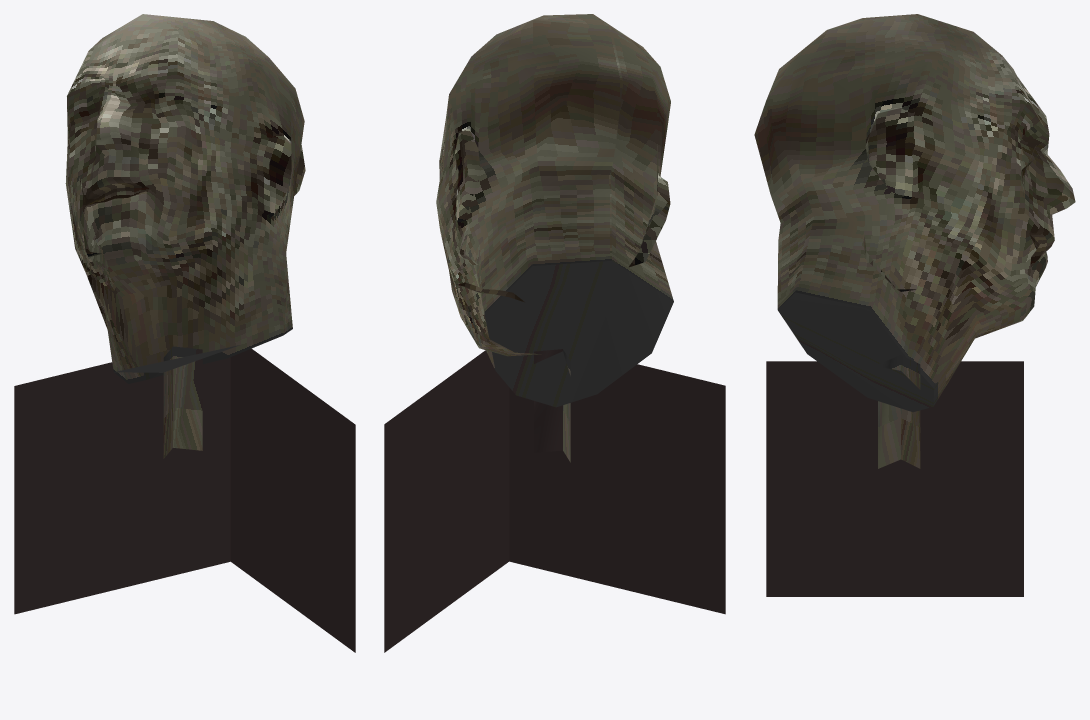
Rendered from ps2_save-icons_thegetaway.glb.
3 renders of one model, left to right at view 1: azimuth 30°, elevation 25°; view 2: azimuth 150°, elevation 25°; view 3: azimuth 270°, elevation 25°, orthographic. The views are drawn at different scales.
Visible parts, largest first — view 1: getaway_icon.ico; view 2: getaway_icon.ico; view 3: getaway_icon.ico.
Part boxes in pixels (x1,y1,x2,y2): getaway_icon.ico: (14,14,355,652); getaway_icon.ico: (384,14,725,652); getaway_icon.ico: (754,14,1075,596).
Size of the model in its own units: 1.84 by 4.93 by 2.3.
1 material, 1 textured.
